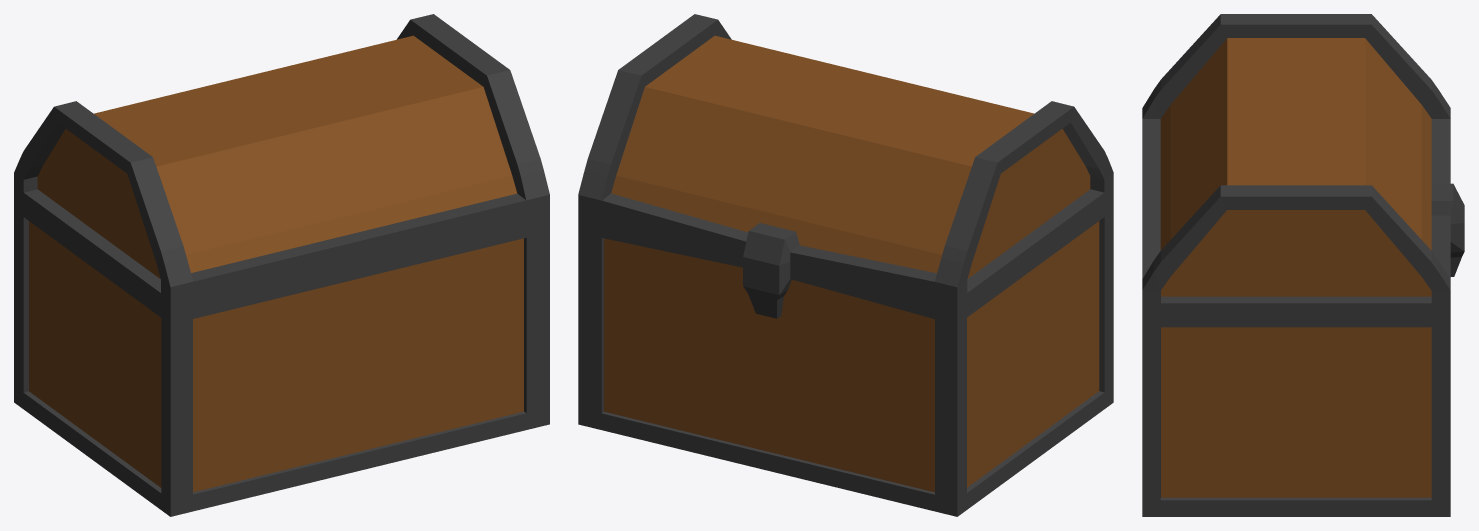
The model's file is Chest.fbx.
The picture shows the model from 3 angles, left to right: view 1: azimuth 30°, elevation 25°; view 2: azimuth 150°, elevation 25°; view 3: azimuth 270°, elevation 25°; orthographic projection.
Parts seen in each view (by area): view 1: Cube; view 2: Cube; view 3: Cube.
Part boxes in pixels (left/top/right/bottom): Cube: left=14, top=14, right=549, bottom=516; Cube: left=578, top=14, right=1113, bottom=516; Cube: left=1142, top=14, right=1464, bottom=516.
Bounding box in the file's own units: 288 × 236 × 215.
Materials: 1 (1 with a texture image).
